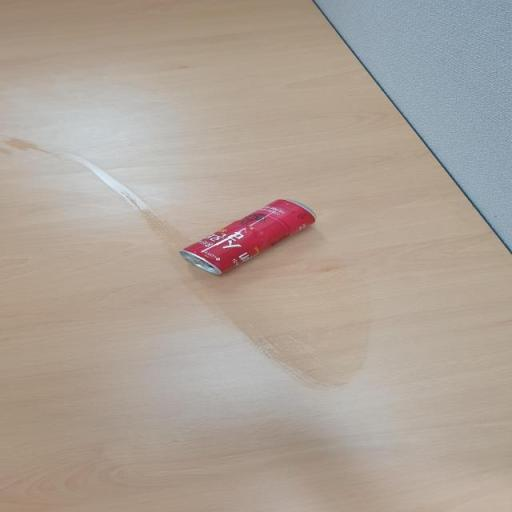metal: (140, 195, 394, 290)
